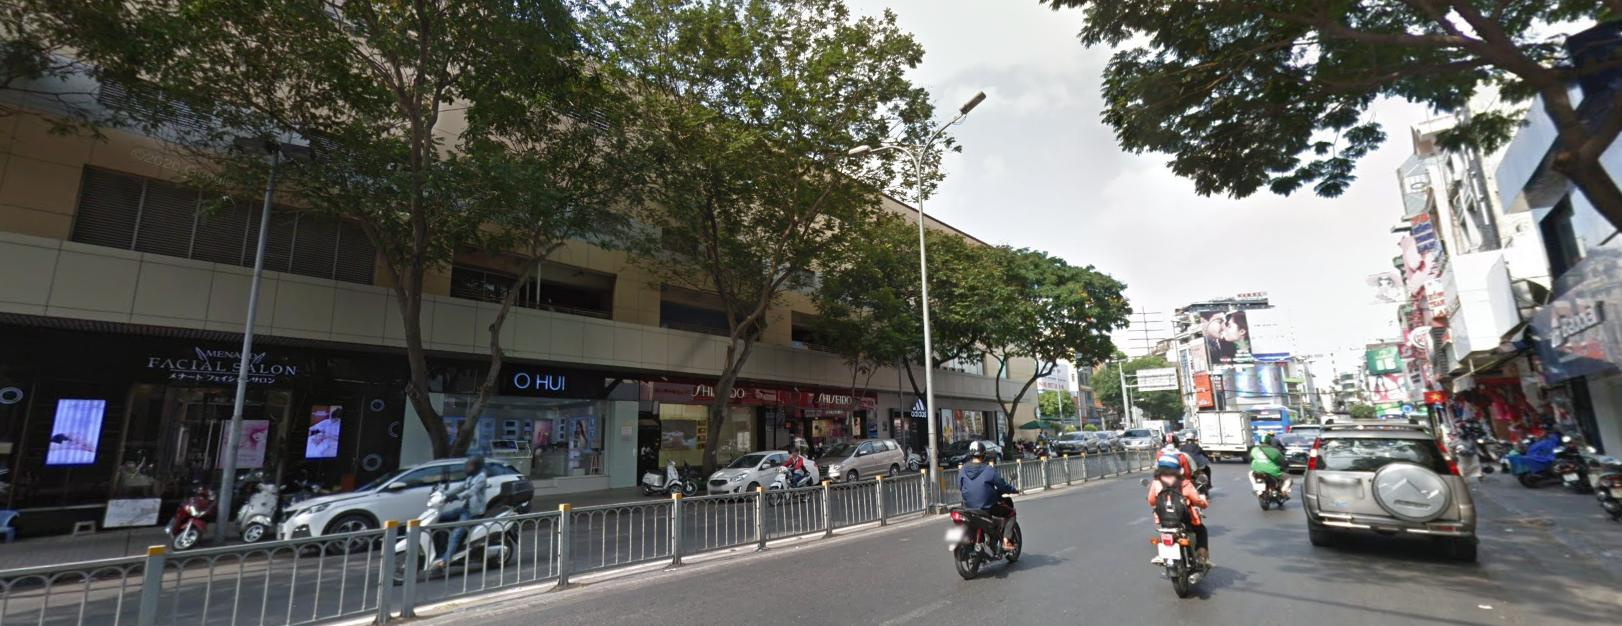Hieu lenh: (1400, 403, 1412, 412)
